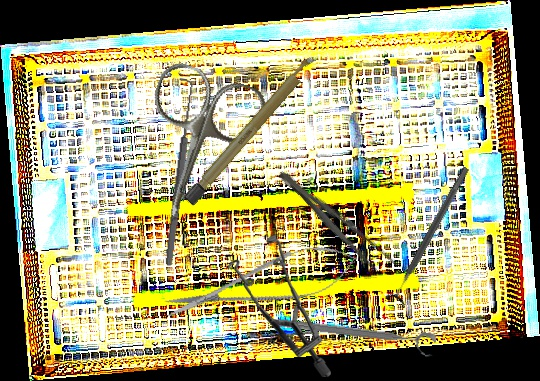Dressing Forceps: (271, 163, 401, 282)
Fixation Ring: (383, 162, 478, 309), (276, 314, 437, 359)
Hook Surgical: (156, 77, 198, 267)
Iris Scissors: (119, 57, 272, 234)
Micro Scissor: (159, 233, 364, 334)
Scalpel Handle: (181, 50, 322, 209)
Speculum: (223, 232, 336, 378)
